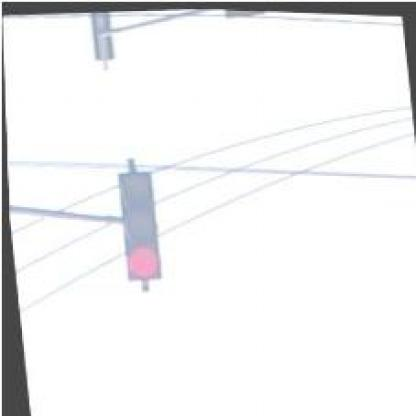red: (112, 168, 158, 280)
